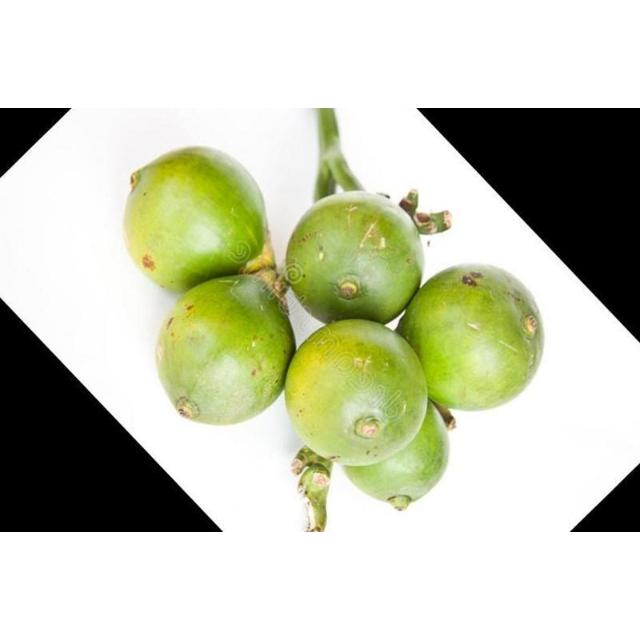good: (122, 147, 271, 296), (396, 264, 545, 413), (156, 276, 297, 429), (285, 321, 428, 467), (282, 191, 426, 328)
